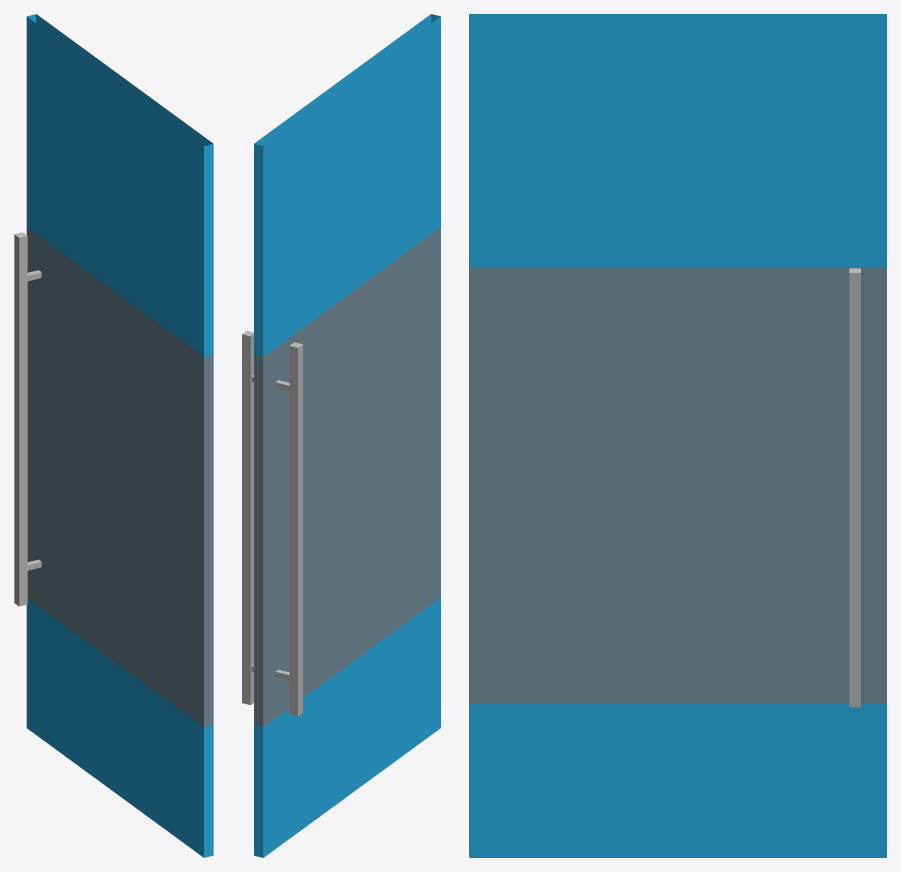
Rendered from sm_boli7.FBX.
3 views of the same model, side by side, from view 1: azimuth 30°, elevation 25°; view 2: azimuth 150°, elevation 25°; view 3: azimuth 270°, elevation 25° (orthographic). The views are drawn at different scales.
Parts seen in each view (by area): view 1: sm_boli7; view 2: sm_boli7; view 3: sm_boli7.
Part boxes in pixels (left/top/right/bottom): sm_boli7: left=14, top=14, right=213, bottom=857; sm_boli7: left=242, top=14, right=440, bottom=857; sm_boli7: left=469, top=14, right=886, bottom=857.
Bounding box in the file's own units: 20.79 × 253 × 114.
